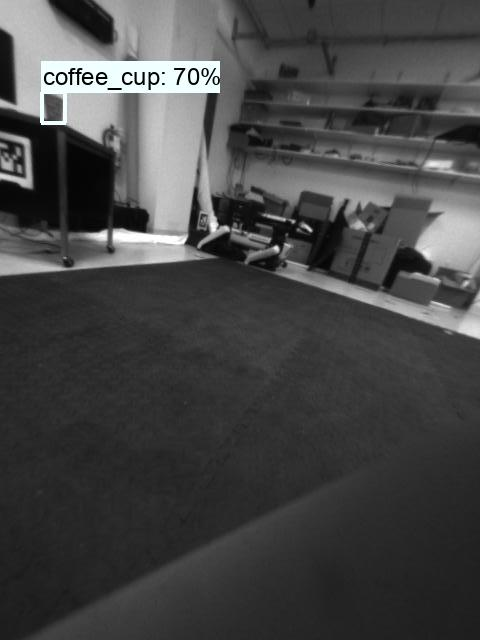coffee_cup: (41, 91, 65, 123)
